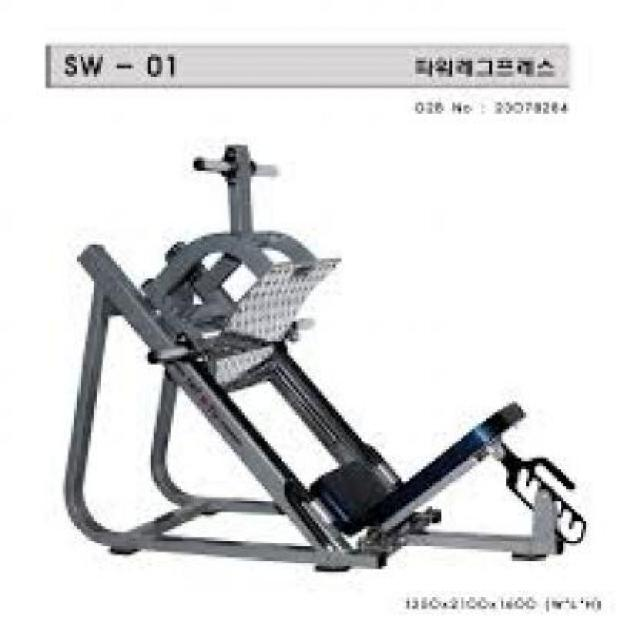leg press: (32, 137, 596, 588)
